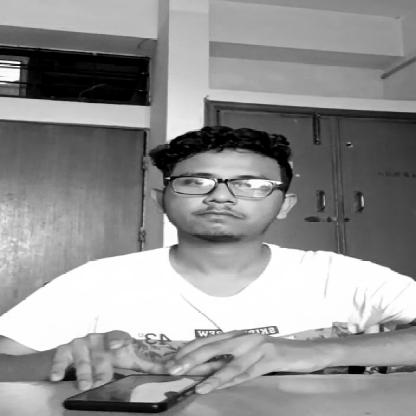Normal: (119, 107, 317, 258)
